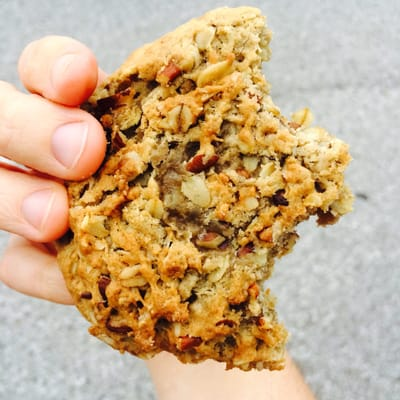sushi: (11, 5, 359, 396)
